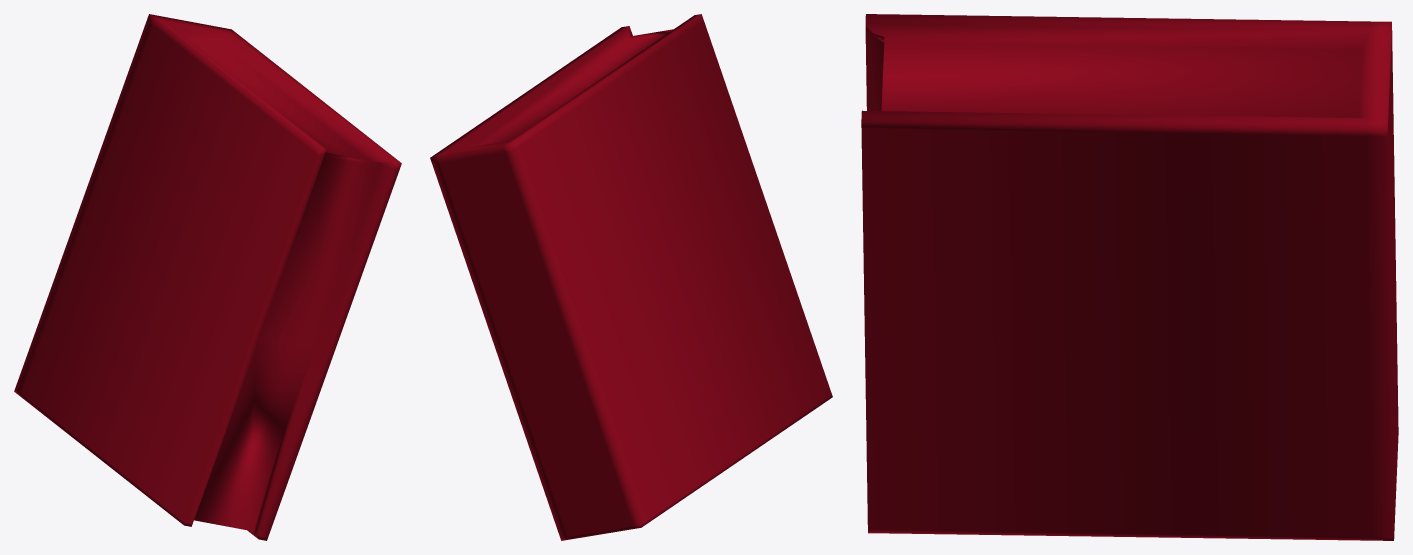
Rendered from Book_7.fbx.
The picture shows the model from 3 angles, left to right: view 1: azimuth 30°, elevation 25°; view 2: azimuth 150°, elevation 25°; view 3: azimuth 270°, elevation 25°; orthographic projection. The views are drawn at different scales.
Visible parts, largest first — view 1: Book_7; view 2: Book_7; view 3: Book_7.
Boxes of the visible parts, <box> form: Book_7: <box>14,14,401,540</box>; Book_7: <box>430,14,832,540</box>; Book_7: <box>861,14,1398,540</box>.
Bounding box in the file's own units: 25.42 × 41.33 × 36.16.
